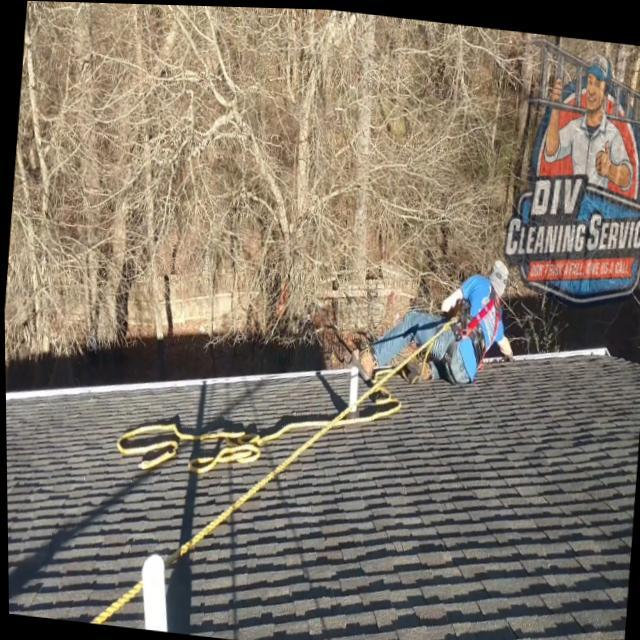belt: (438, 270, 502, 384)
